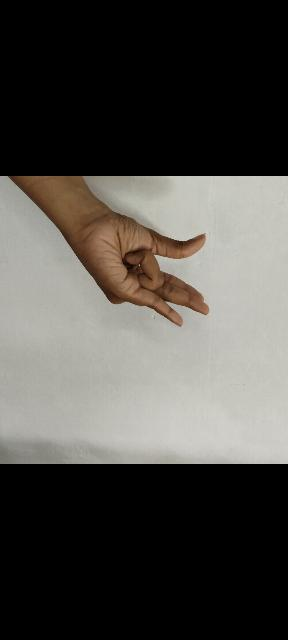kangul: (68, 208, 212, 342)
